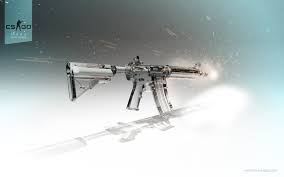gun: (63, 55, 207, 117)
